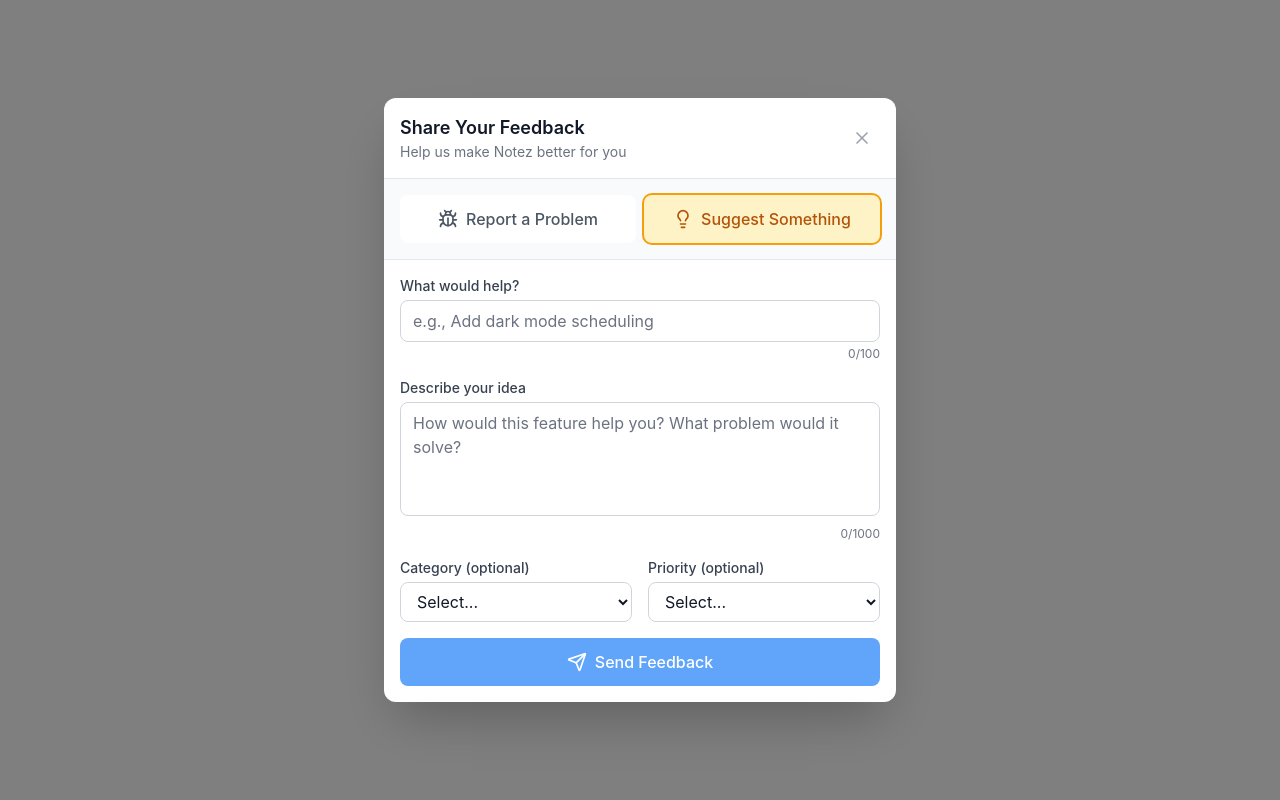
it: FeedbackModal › should show error alert when submit fails
Type "New feature" into the field labelled "What would help?" at x=640, y=321, box [400, 300, 880, 342]
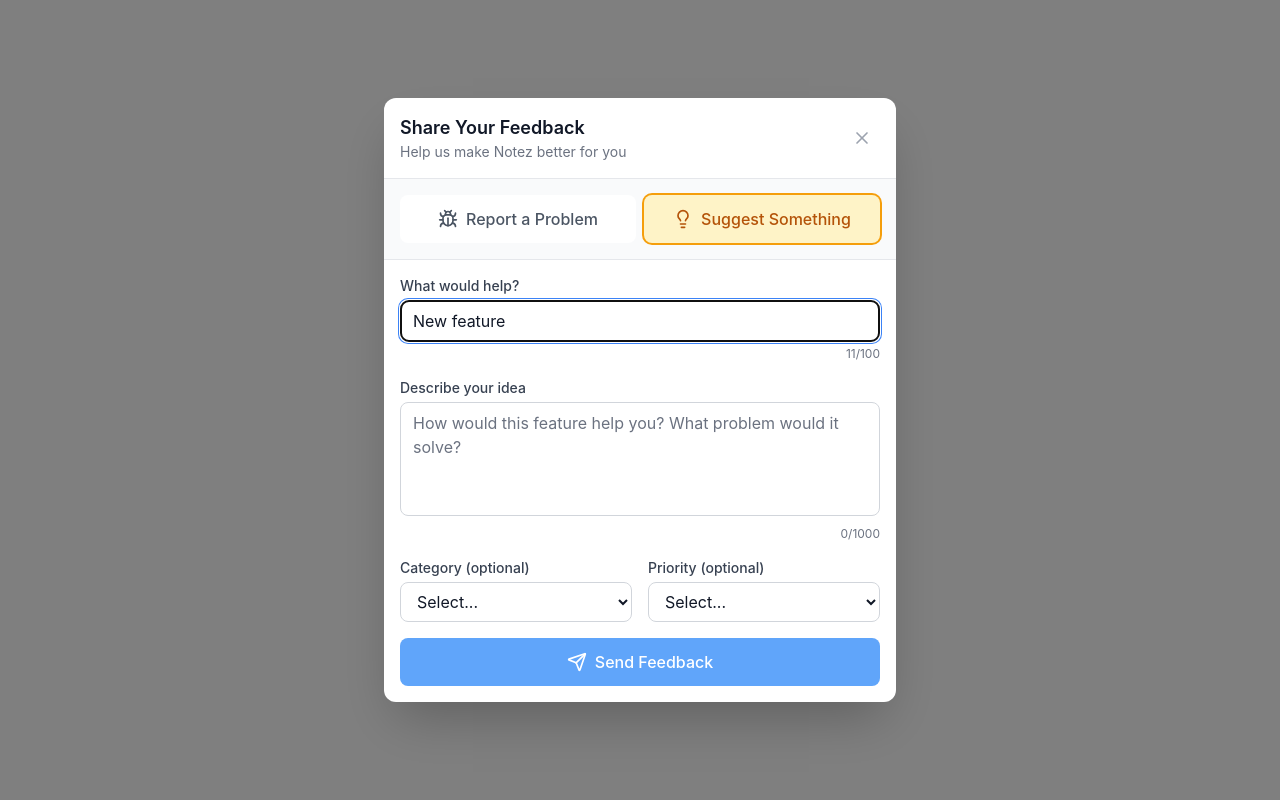
Type "Please add this" into the text box labelled "Describe your idea" at x=640, y=459, box [400, 402, 880, 516]
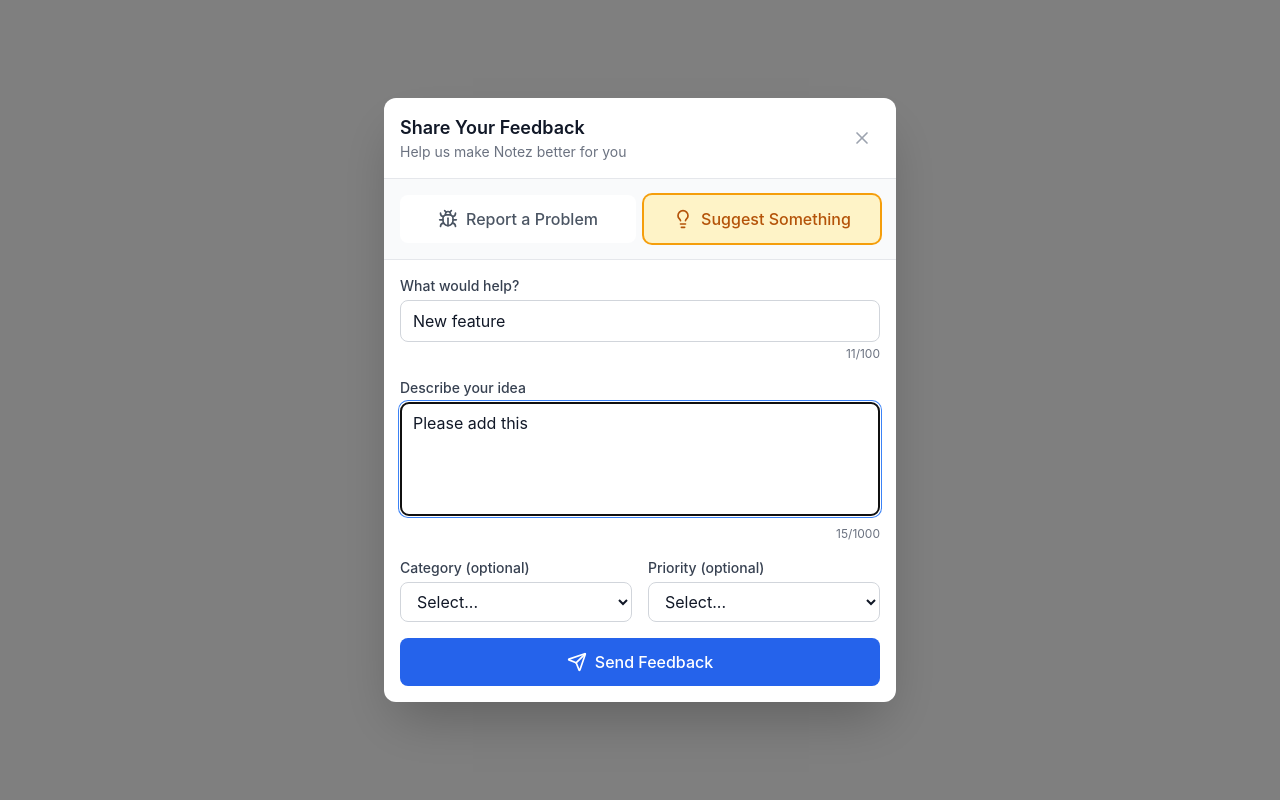
Click the button "Send Feedback" at x=640, y=662, box [400, 638, 880, 686]
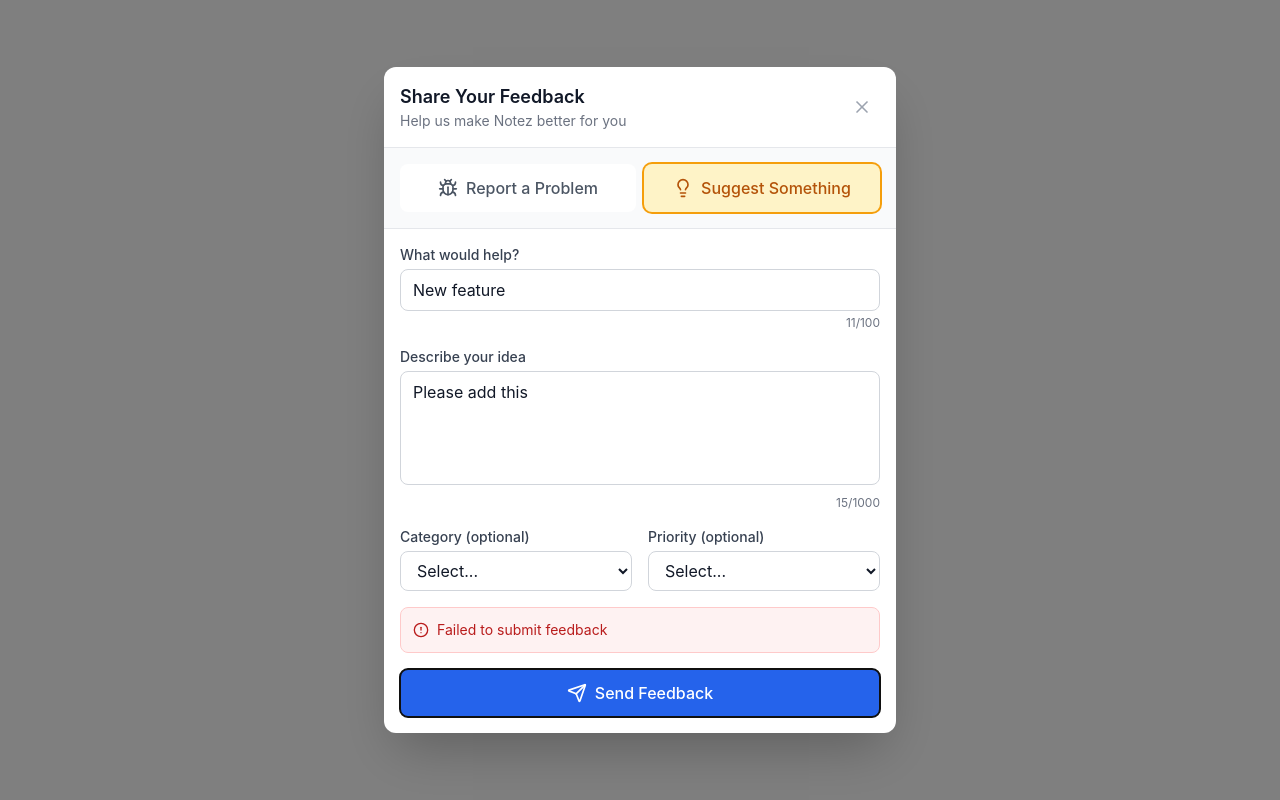
expect the message "Failed to submit feedback" is shown: met, box [400, 607, 880, 653]
expect the message reads "Failed to submit feedback": met, box [437, 621, 607, 638]
